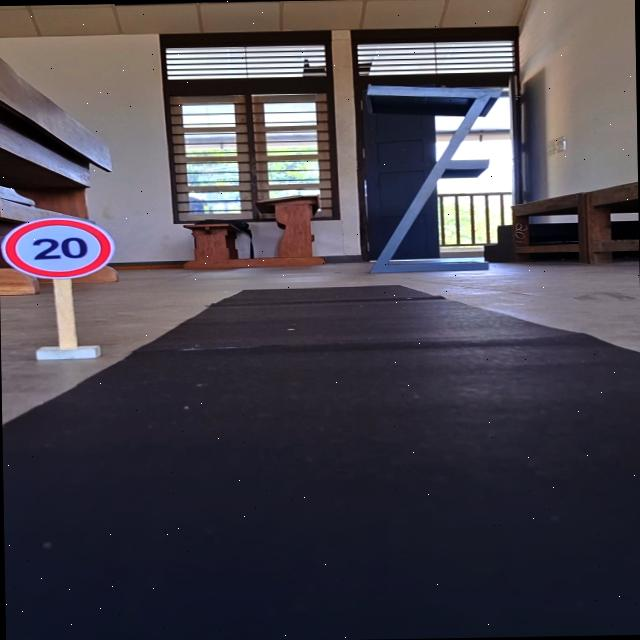Speed20: (0, 211, 121, 282)
